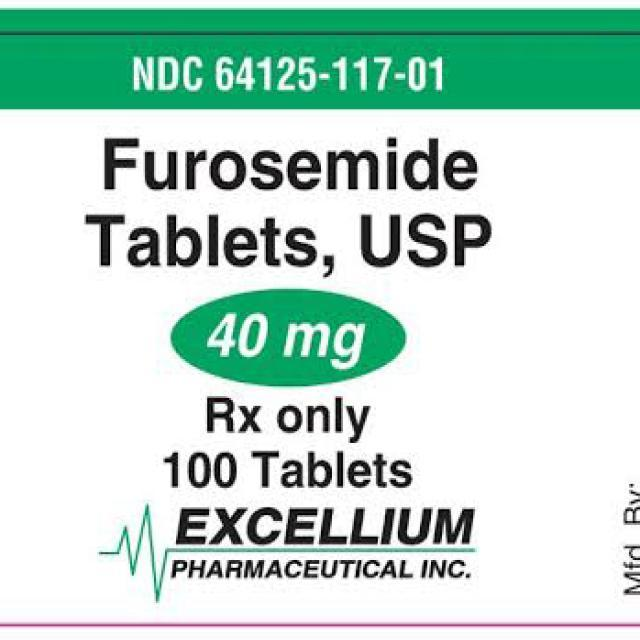drug-name: (176, 500, 478, 548)
